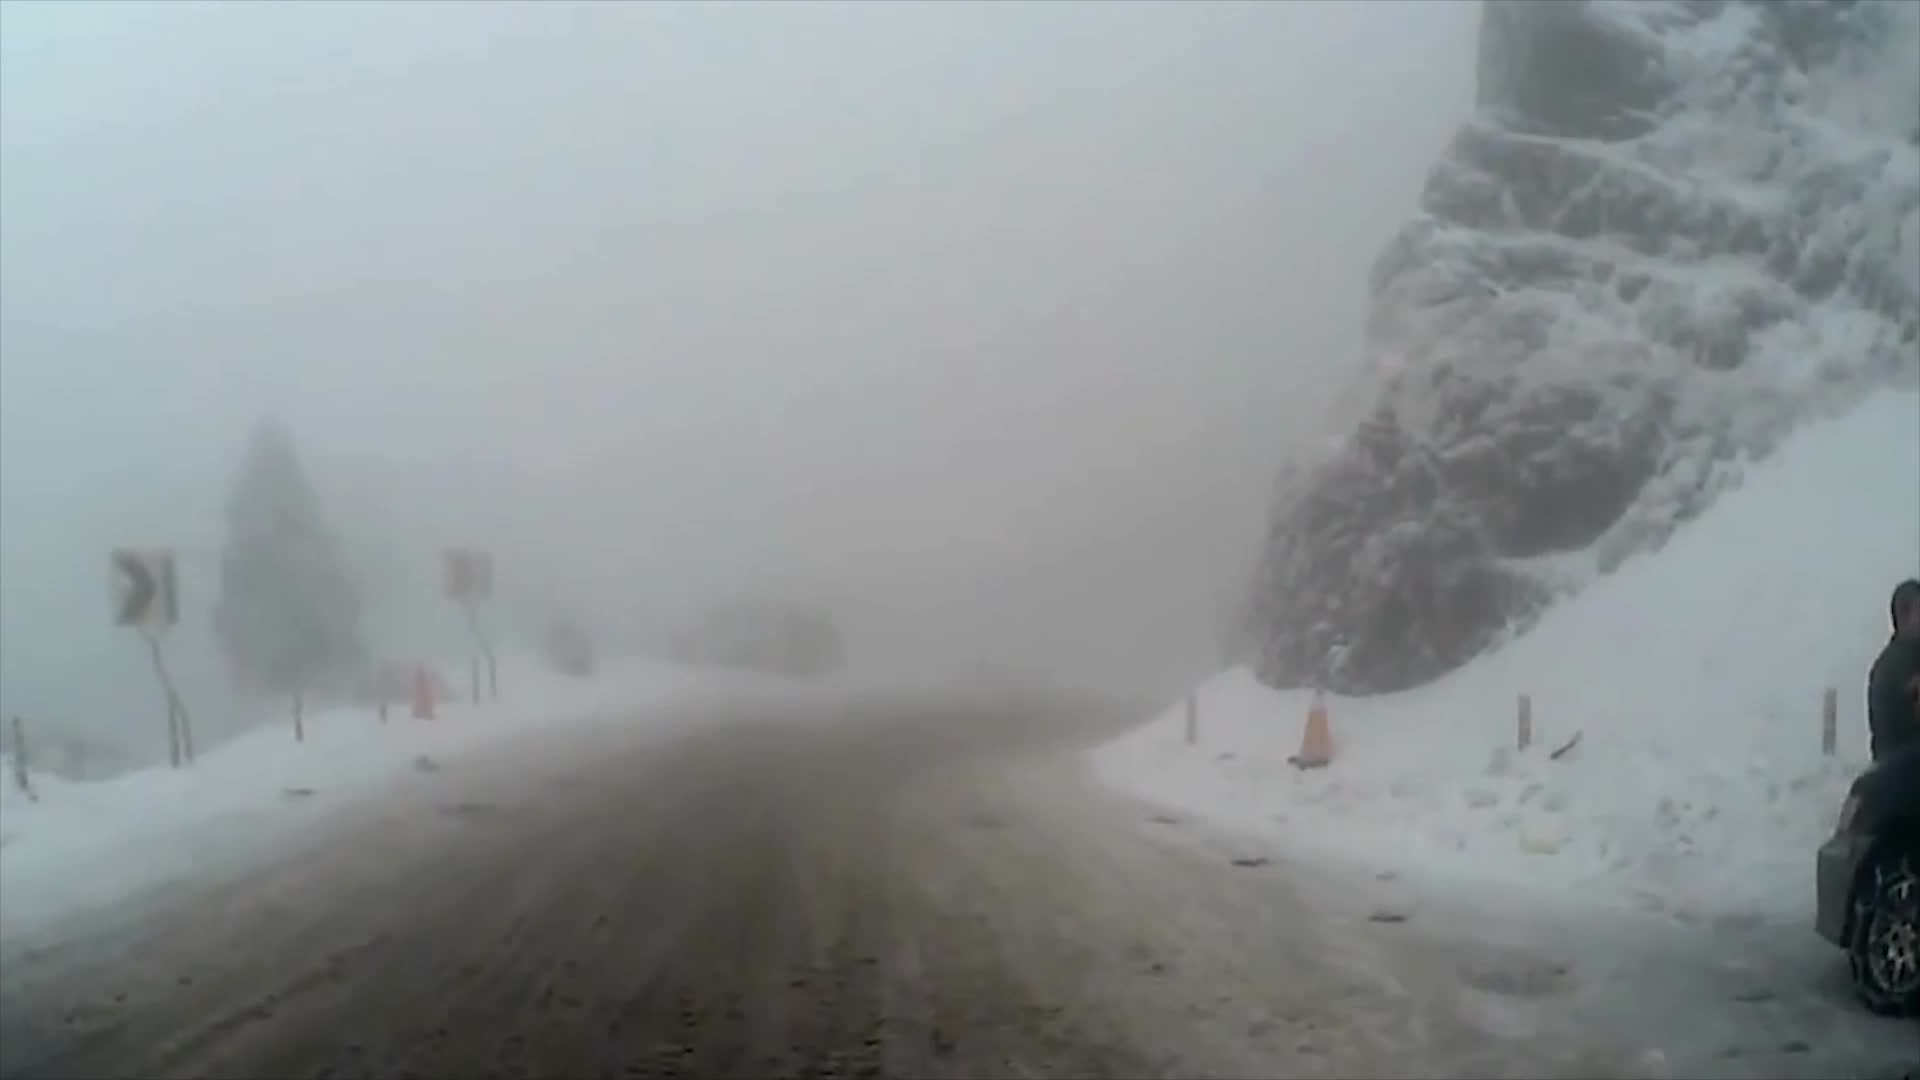pedestrian: (1866, 582, 1920, 911)
vehicle: (1810, 740, 1919, 1016)
